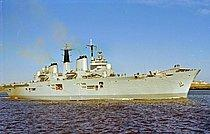MIL_Ship: (3, 41, 203, 101)
